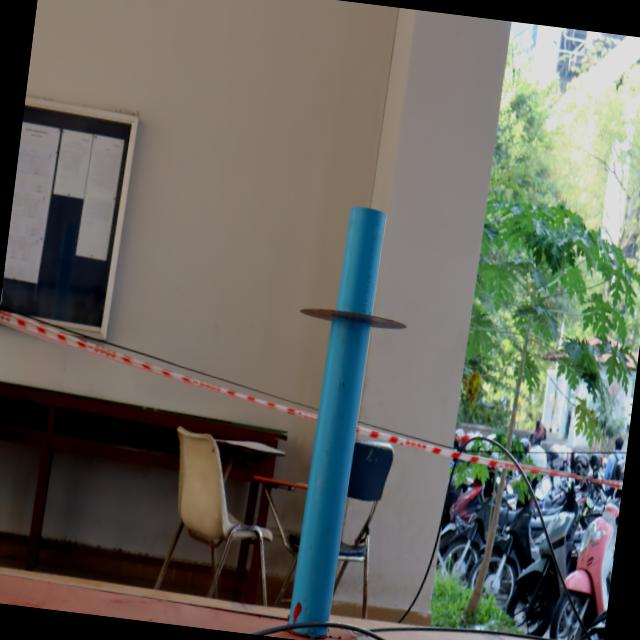pole: (280, 200, 423, 417)
